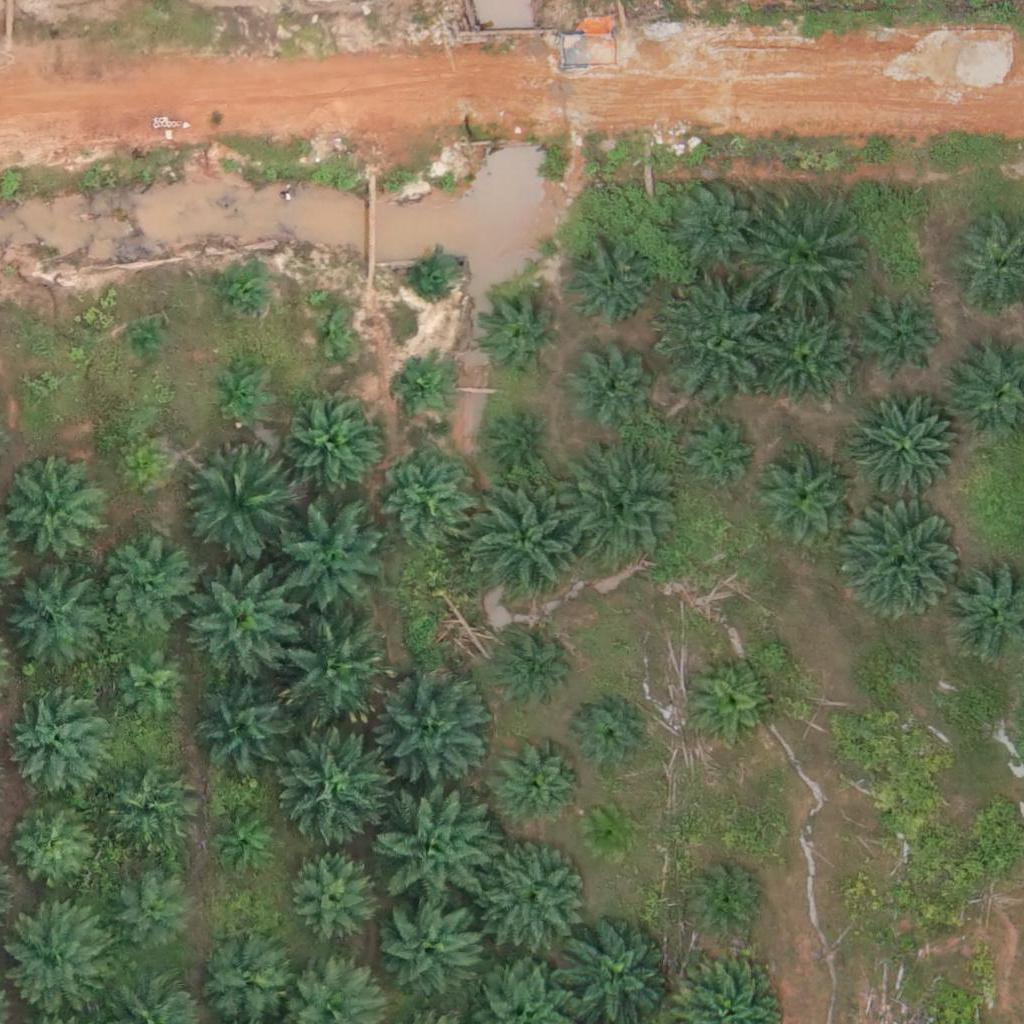Kelapa_Sawit: (840, 507, 953, 621), (566, 456, 679, 570), (471, 479, 584, 592), (374, 795, 487, 908), (270, 503, 383, 616), (283, 736, 396, 849), (179, 443, 292, 556), (184, 575, 297, 688), (372, 669, 484, 783), (851, 393, 963, 506), (748, 206, 860, 319), (658, 285, 770, 398), (475, 845, 587, 958), (281, 620, 393, 733), (754, 304, 854, 405), (660, 171, 760, 272), (380, 895, 480, 996), (190, 682, 290, 783), (7, 466, 107, 567), (755, 446, 855, 546), (286, 395, 386, 495), (99, 761, 199, 861), (101, 536, 201, 636), (8, 573, 108, 673), (1, 693, 101, 793), (290, 854, 378, 942), (566, 242, 653, 331), (860, 295, 947, 383), (673, 412, 760, 500), (566, 341, 653, 429), (382, 445, 469, 533), (476, 289, 563, 377), (686, 662, 773, 750), (10, 804, 97, 892), (108, 864, 195, 952), (503, 748, 578, 824), (570, 700, 645, 776), (494, 626, 569, 701), (113, 643, 188, 718), (687, 862, 762, 937), (213, 809, 276, 872), (398, 358, 448, 409), (581, 808, 631, 858), (405, 248, 455, 298), (496, 417, 546, 467), (308, 311, 358, 361), (216, 265, 266, 315), (211, 368, 261, 418), (125, 326, 163, 364), (115, 445, 152, 482), (28, 373, 53, 399)
